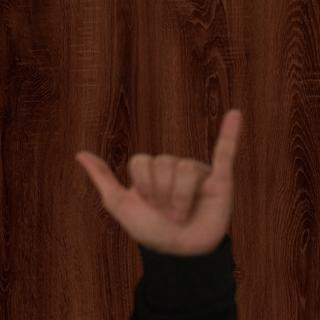HAVE: (73, 98, 258, 260)
